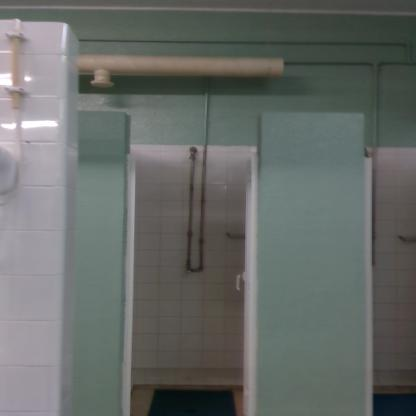open: (97, 116, 282, 410), (352, 128, 415, 412)
